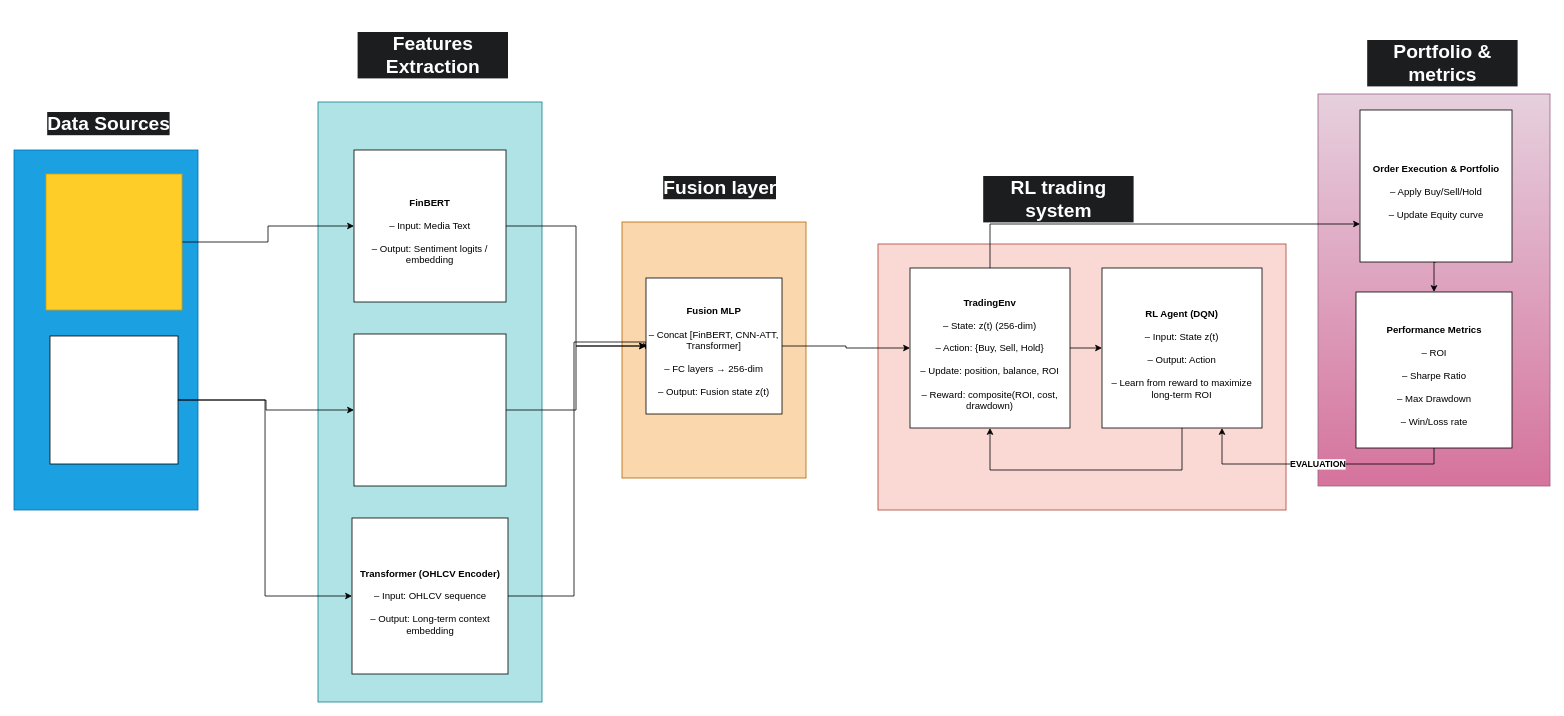
Some shapes in this 1564 by 716 pixel diagram are drawn without their labels. The shapes that lost their labels are listed below. From the top down, each one's centre as x and y in pixels, then its label:
the point at 113,241: Media Data (News / Articles ) – Text, Titles, Content – Time-aligned with price
the point at 113,399: Market Data (OHLCV) – Open, High, Low, Close, Volume – Time series
the point at 429,409: CNN-ATT (OHLCV Encoder) – Input: OHLCV window – Output: Price pattern embedding
